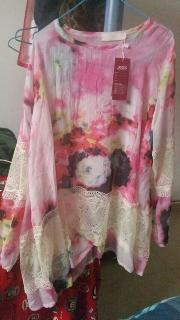long sleeve top: (0, 16, 176, 311)
